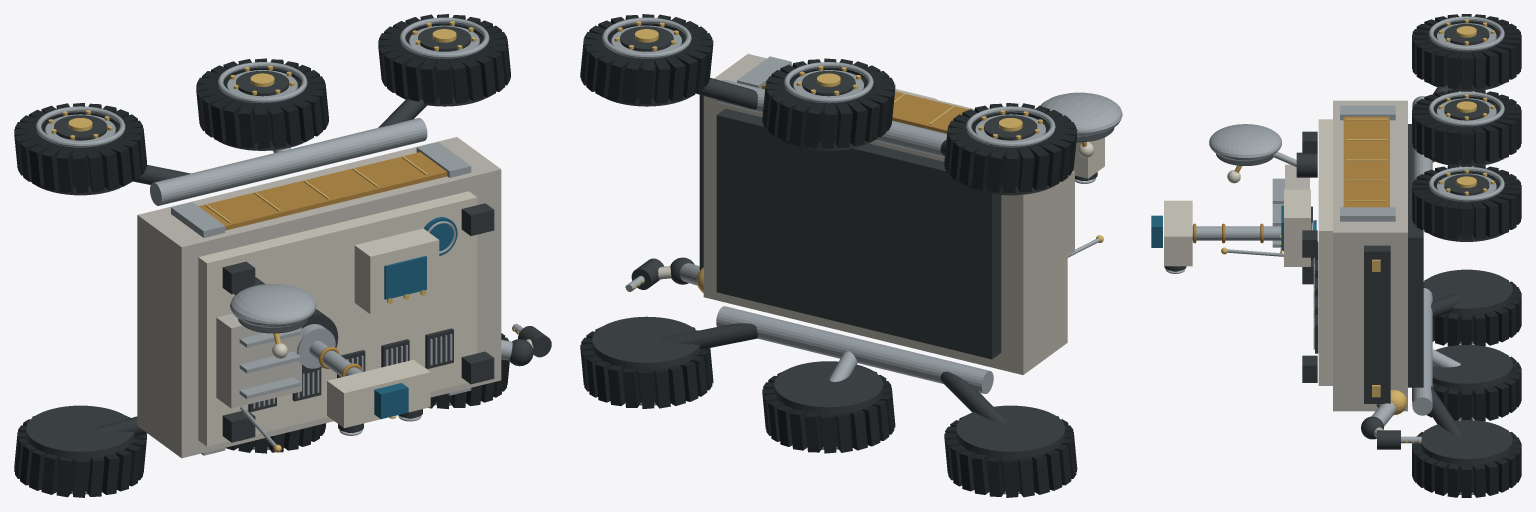
The model's file is mars-rover.glb.
3 views of the same model, side by side, from view 1: azimuth 30°, elevation 25°; view 2: azimuth 150°, elevation 25°; view 3: azimuth 270°, elevation 25° (orthographic). The views are drawn at different scales.
Parts seen in each view (by area): view 1: ivory, white, rubber, silver, dark, gold, blue, gold_light; view 2: dark, rubber, white, silver, gold_light, gold, ivory; view 3: rubber, dark, white, silver, ivory, gold, gold_light, blue.
Boxes of the visible parts, left/top/right/bottom form: ivory: left=198, top=191, right=477, bottom=446; white: left=137, top=137, right=533, bottom=458; rubber: left=14, top=14, right=510, bottom=497; silver: left=35, top=17, right=522, bottom=494; dark: left=26, top=26, right=551, bottom=460; gold: left=198, top=152, right=447, bottom=376; blue: left=374, top=217, right=457, bottom=419; gold_light: left=48, top=21, right=521, bottom=452; dark: left=592, top=26, right=1114, bottom=460; rubber: left=580, top=14, right=1077, bottom=497; white: left=658, top=54, right=1074, bottom=374; silver: left=602, top=17, right=1122, bottom=494; gold_light: left=614, top=21, right=1103, bottom=292; gold: left=762, top=66, right=974, bottom=133; ivory: left=895, top=89, right=1104, bottom=178; rubber: left=1412, top=14, right=1521, bottom=497; dark: left=1164, top=24, right=1512, bottom=466; white: left=1285, top=100, right=1407, bottom=437; silver: left=1165, top=16, right=1504, bottom=494; ivory: left=1164, top=119, right=1332, bottom=385; gold: left=1193, top=116, right=1389, bottom=243; gold_light: left=1221, top=19, right=1494, bottom=442; blue: left=1151, top=205, right=1316, bottom=250.
Bounding box in the file's own units: 4.87 × 3.45 × 3.85.
